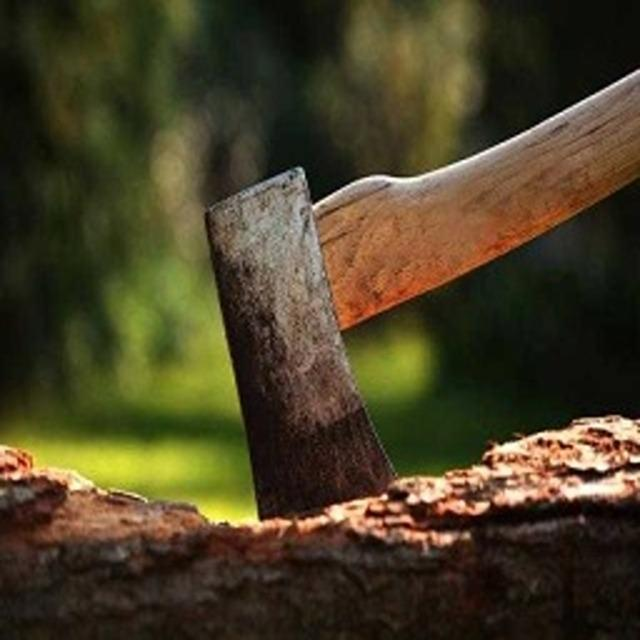ax: (190, 62, 640, 528)
